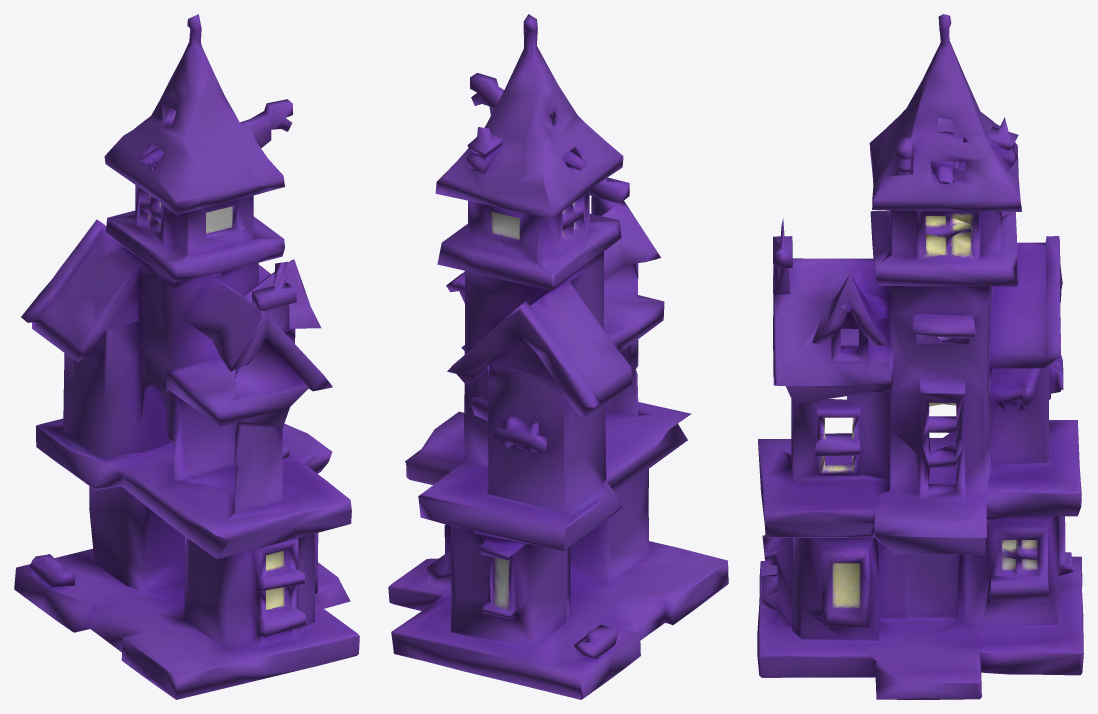
File: haunted-mansion.glb
3 renders of one model, left to right at view 1: azimuth 30°, elevation 25°; view 2: azimuth 150°, elevation 25°; view 3: azimuth 270°, elevation 25°, orthographic. The views are drawn at different scales.
Visible parts, largest first — view 1: tripo_node_4f9b2bae-b47f-49e6-8312-7a14af5b4b26; view 2: tripo_node_4f9b2bae-b47f-49e6-8312-7a14af5b4b26; view 3: tripo_node_4f9b2bae-b47f-49e6-8312-7a14af5b4b26.
Part boxes in pixels (box(x1,y1,x2,y2)): tripo_node_4f9b2bae-b47f-49e6-8312-7a14af5b4b26: box(14, 14, 359, 699); tripo_node_4f9b2bae-b47f-49e6-8312-7a14af5b4b26: box(388, 14, 728, 699); tripo_node_4f9b2bae-b47f-49e6-8312-7a14af5b4b26: box(757, 14, 1083, 699).
Size of the model in its own units: 0.4239 by 1 by 0.4713.
Materials: 1 (1 with a texture image).
